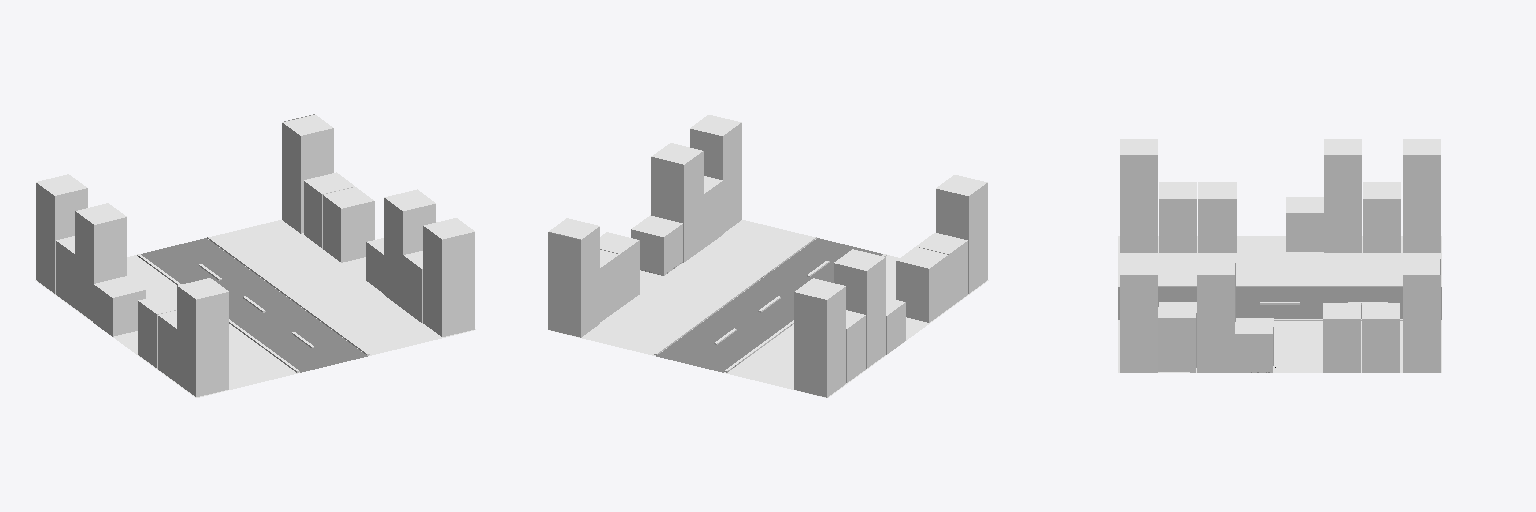
3 renders of one model, left to right at view 1: azimuth 30°, elevation 25°; view 2: azimuth 150°, elevation 25°; view 3: azimuth 270°, elevation 25°, orthographic.
Visible parts, largest first — view 1: 立方体.002; view 2: 立方体.002; view 3: 立方体.002.
Boxes of the visible parts, <box> form: 立方体.002: <box>35,114,475,397</box>; 立方体.002: <box>548,115,988,397</box>; 立方体.002: <box>1118,139,1441,372</box>.
Size of the model in its own units: 6.02 by 2 by 6.
Materials: 1 (1 with a texture image).